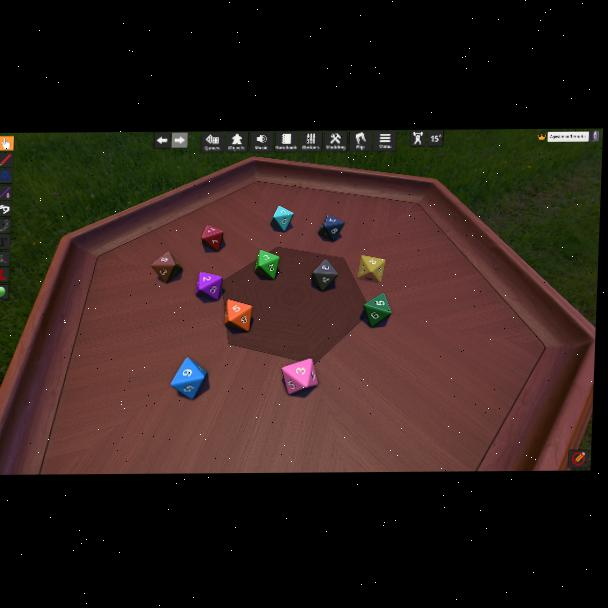d8: (171, 356, 209, 399), (280, 358, 316, 394), (151, 252, 183, 283), (363, 294, 392, 327), (223, 299, 252, 332), (311, 260, 338, 291), (356, 256, 386, 283), (255, 250, 281, 280), (197, 271, 223, 299), (318, 215, 343, 242), (271, 204, 294, 231), (202, 225, 225, 251)
